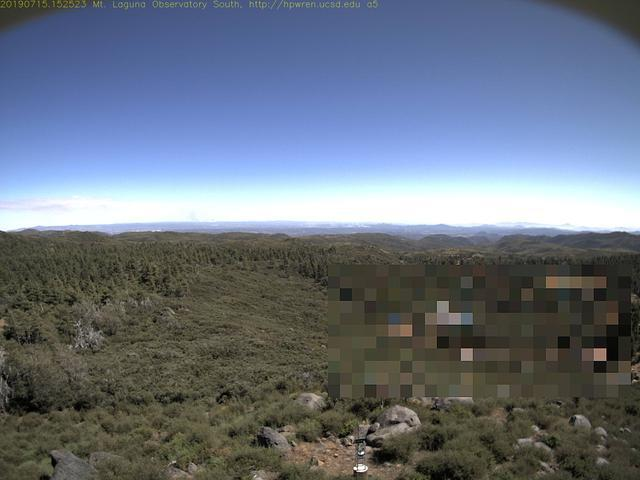smoke: (185, 212, 201, 232)
